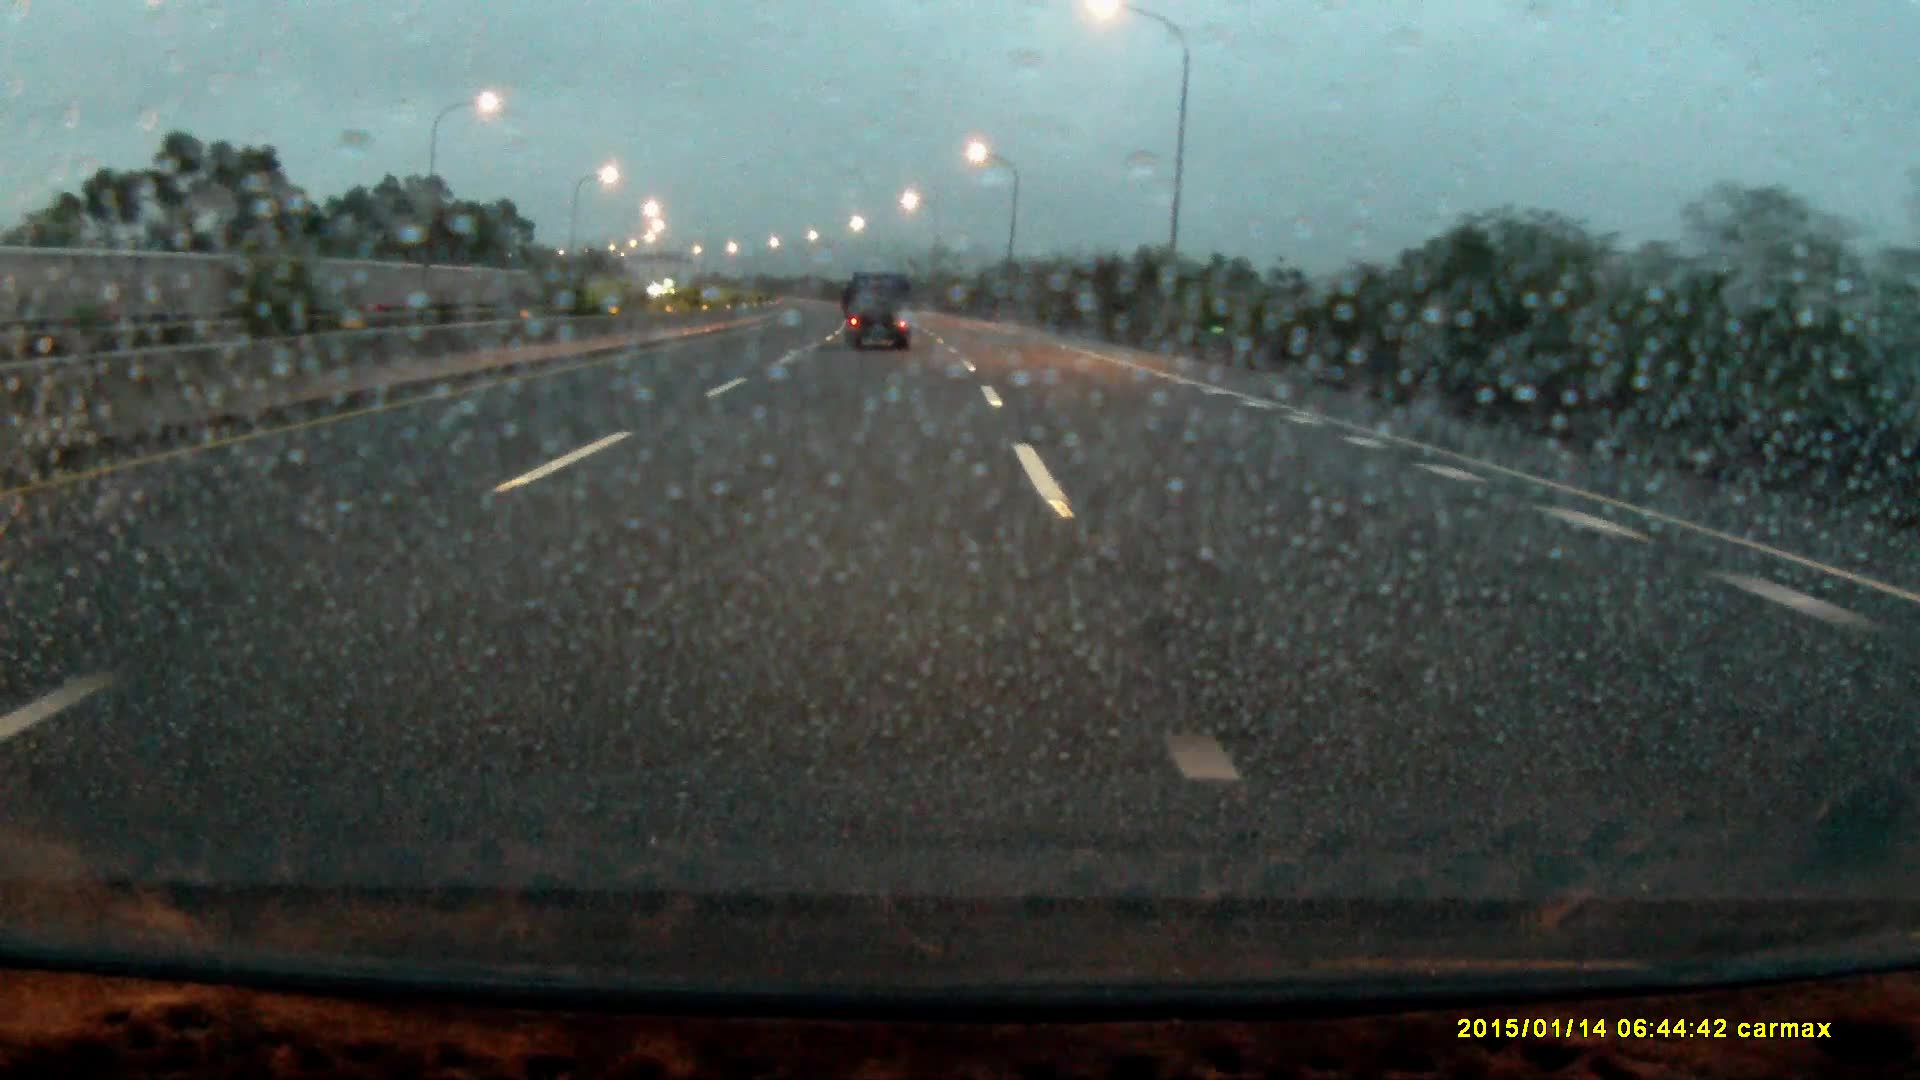vehicle: (843, 272, 911, 357)
